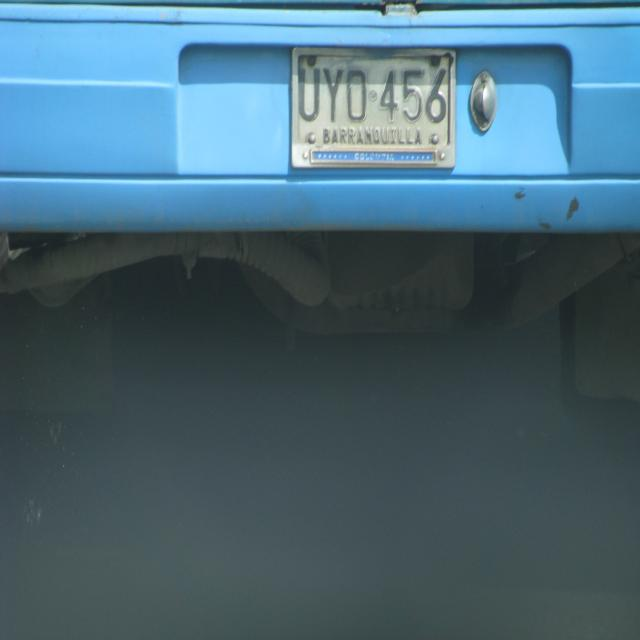particular: (288, 41, 458, 171)
